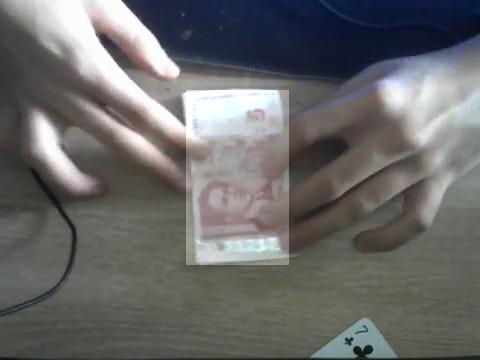5leva: (186, 90, 289, 265)
